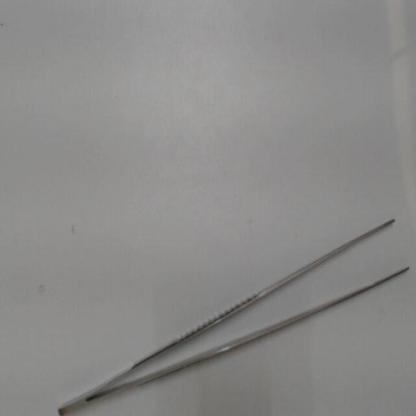DeBakey Dissector: (46, 210, 413, 414)
